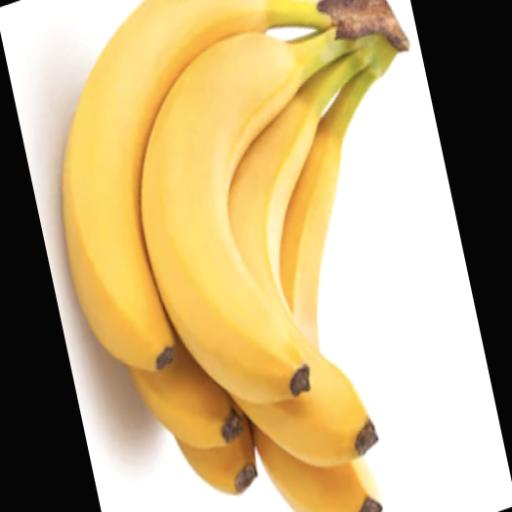banana-ripe: (47, 0, 468, 512)
